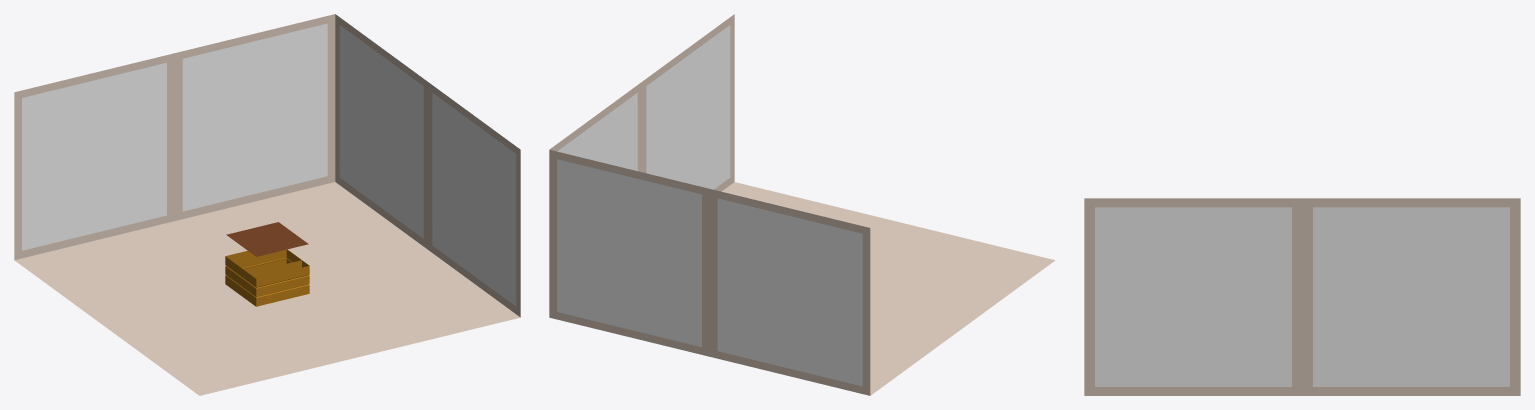
Rendered from Planter1x1.glb.
The picture shows the model from 3 angles, left to right: view 1: azimuth 30°, elevation 25°; view 2: azimuth 150°, elevation 25°; view 3: azimuth 270°, elevation 25°; orthographic projection. The views are drawn at different scales.
Parts seen in each view (by area): view 1: Greenhouse, 1x1, 1x0.5, 1x1 Soil, 1x0.5 Soil; view 2: Greenhouse; view 3: Greenhouse.
Boxes of the visible parts, <box> form: Greenhouse: <box>14,14,520,395</box>; 1x1: <box>225,249,309,306</box>; 1x0.5: <box>233,249,301,298</box>; 1x1 Soil: <box>226,222,308,256</box>; 1x0.5 Soil: <box>234,227,300,250</box>; Greenhouse: <box>549,14,1054,395</box>; Greenhouse: <box>1084,198,1520,395</box>.
Bounding box in the file's own units: 6 × 3 × 6.
